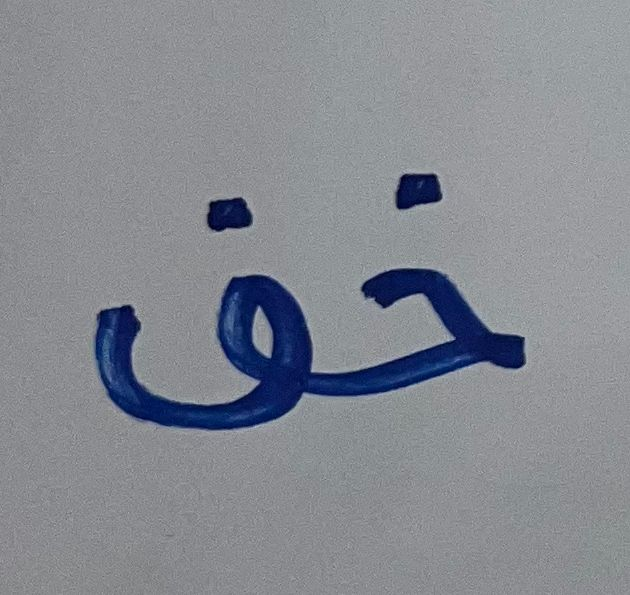khah: (345, 143, 544, 416)
qaf: (69, 165, 334, 446)
